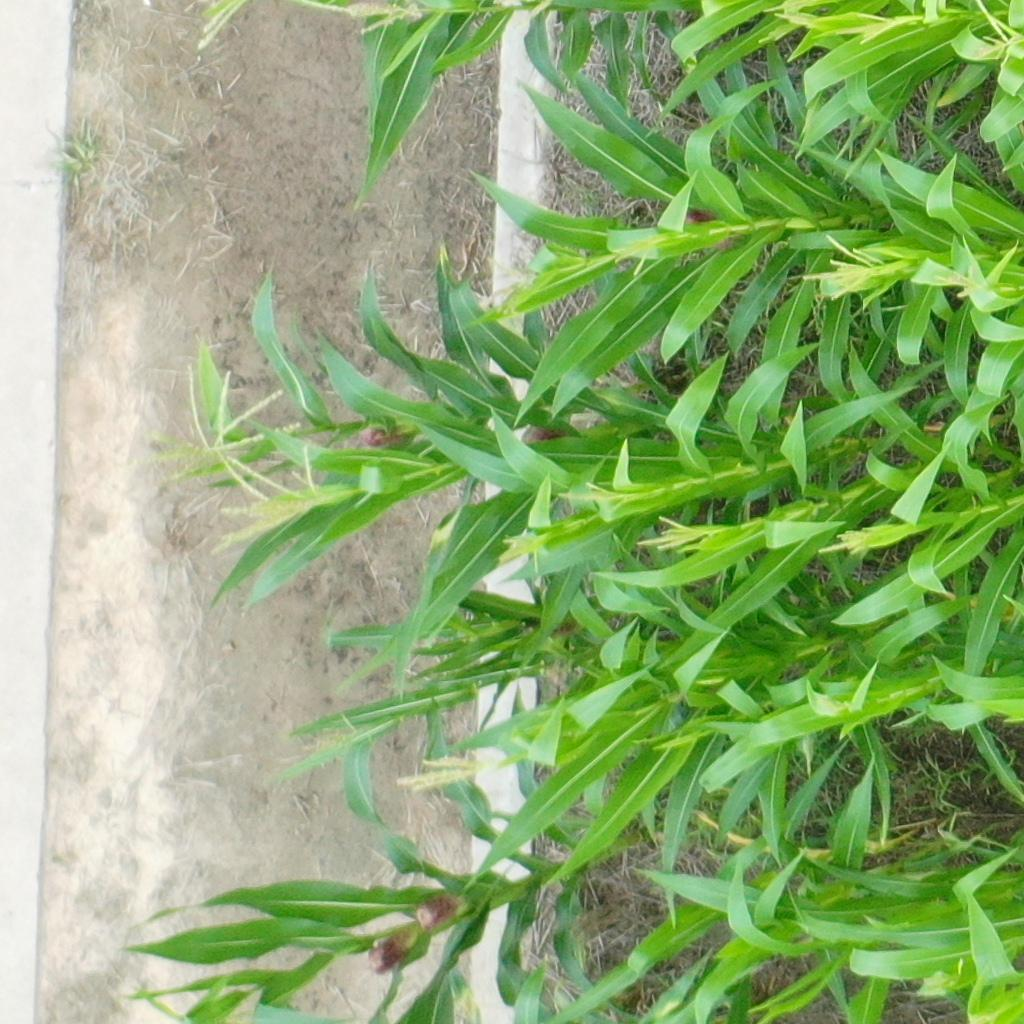Tassel: (142, 364, 298, 504), (204, 448, 361, 550), (270, 709, 375, 791), (794, 232, 895, 304), (392, 751, 496, 798), (473, 257, 553, 318), (629, 512, 719, 556), (552, 473, 630, 519), (817, 517, 891, 563), (832, 9, 925, 43), (975, 1, 1024, 59), (610, 229, 663, 279), (495, 535, 555, 579), (335, 1, 422, 31), (191, 1, 247, 47), (934, 262, 987, 304), (764, 1, 819, 36)
